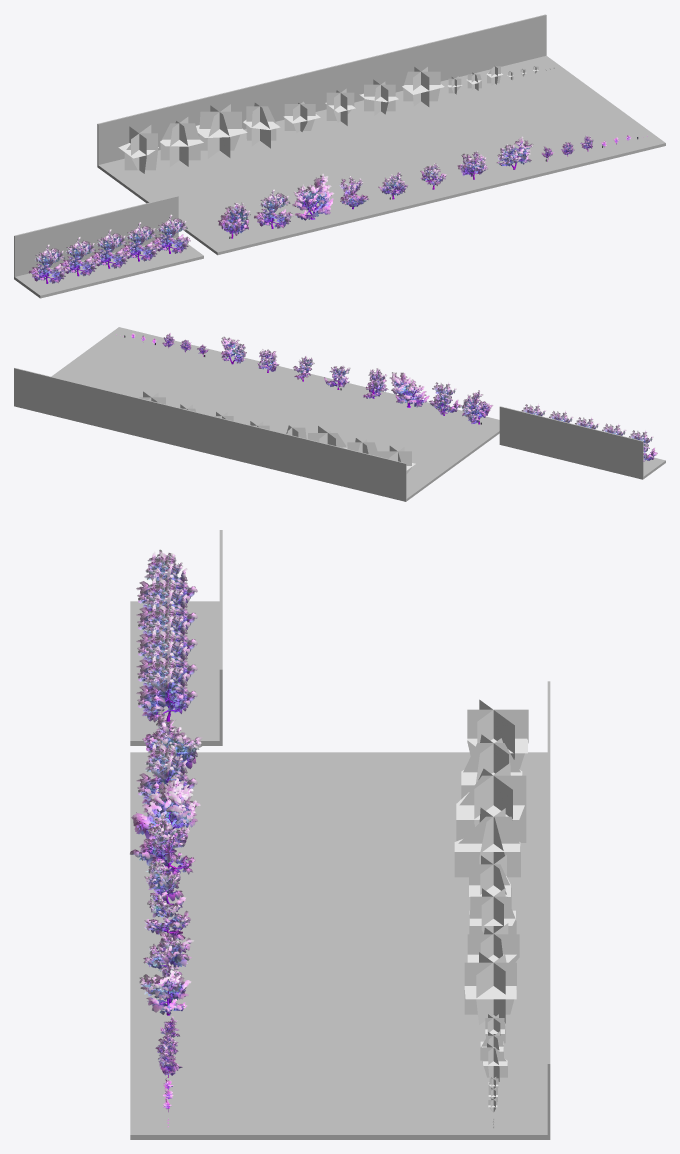
The model's file is Oak pack.fbx.
3 views of the same model, one above another, from view 1: azimuth 30°, elevation 25°; view 2: azimuth 150°, elevation 25°; view 3: azimuth 270°, elevation 25° (orthographic). The views are drawn at different scales.
Parts seen in each view (by area): view 1: Ground, Large_oak_tree_003_Billboard, Large_oak_tree_002_Billboard, Large_oak_tree_001_Billboard, Large_oak_tree_003_LOD0, Big_oak_tree__004_Billboard, Large_oak_tree_004_Billboard, Big_oak_tree__003_Billboard, Large_oak_tree_002_LOD0, Large_oak_tree_002_LOD0.005, Large_oak_tree_002_LOD0.001, Large_oak_tree_002_LOD0.004 (+9 smaller); view 2: Ground, Large_oak_tree_003_LOD0, Large_oak_tree_001_LOD0, Large_oak_tree_002_LOD0, Big_oak_tree__004_LOD0, Large_oak_tree_004_LOD0, Large_oak_tree_001_Billboard, Large_oak_tree_003_Billboard, Big_oak_tree__001_LOD0, Big_oak_tree__003_LOD0, Large_oak_tree_002_Billboard, Large_oak_tree_002_LOD0.005 (+1 smaller); view 3: Ground, Large_oak_tree_003_Billboard, Large_oak_tree_004_Billboard, Big_oak_tree__004_Billboard, Large_oak_tree_001_Billboard, Large_oak_tree_002_LOD0.001, Large_oak_tree_003_LOD0, Large_oak_tree_004_LOD0, Large_oak_tree_002_LOD0, Big_oak_tree__002_Billboard, Large_oak_tree_002_Billboard, Big_oak_tree__004_LOD0 (+10 smaller).
Part boxes in pixels (x1,y1,x2,y2): Ground: (14,14,665,298); Large_oak_tree_003_Billboard: (196,104,247,158); Large_oak_tree_002_Billboard: (160,117,203,167); Large_oak_tree_001_Billboard: (118,125,158,173); Large_oak_tree_003_LOD0: (292,173,334,220); Big_oak_tree__004_Billboard: (402,67,444,106); Large_oak_tree_004_Billboard: (243,103,280,148); Big_oak_tree__003_Billboard: (359,79,398,115); Large_oak_tree_002_LOD0: (254,189,293,228); Large_oak_tree_002_LOD0.005: (28,244,68,283); Large_oak_tree_002_LOD0.001: (152,214,190,253); Large_oak_tree_002_LOD0.004: (60,237,99,276); Ground: (14,327,665,501); Large_oak_tree_003_LOD0: (389,372,429,407); Large_oak_tree_001_LOD0: (458,390,493,424); Large_oak_tree_002_LOD0: (428,381,460,415); Big_oak_tree__004_LOD0: (220,336,246,364); Large_oak_tree_004_LOD0: (362,368,388,398); Large_oak_tree_001_Billboard: (376,446,415,473); Large_oak_tree_003_Billboard: (308,426,347,448); Big_oak_tree__001_LOD0: (324,365,350,389); Big_oak_tree__003_LOD0: (257,349,279,372); Large_oak_tree_002_Billboard: (347,438,377,455); Large_oak_tree_002_LOD0.005: (629,430,657,461); Ground: (130,530,550,1139); Large_oak_tree_003_Billboard: (456,763,526,842); Large_oak_tree_004_Billboard: (454,807,520,877); Big_oak_tree__004_Billboard: (464,952,516,1024); Large_oak_tree_001_Billboard: (467,699,528,769); Large_oak_tree_002_LOD0.001: (136,654,197,722); Large_oak_tree_003_LOD0: (131,775,200,841); Large_oak_tree_004_LOD0: (130,813,195,875); Large_oak_tree_002_LOD0: (136,742,197,805); Big_oak_tree__002_Billboard: (469,888,516,934); Large_oak_tree_002_Billboard: (461,734,522,798); Big_oak_tree__004_LOD0: (139,962,191,1015).
Size of what is drawn, in the model's own units: 46600 by 3100 by 15531.
